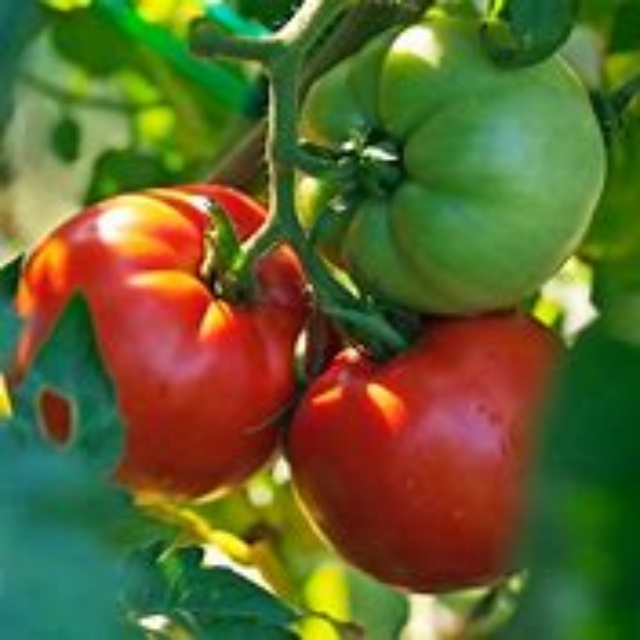tomato: (273, 329, 584, 606), (290, 20, 599, 295), (15, 195, 293, 491)
